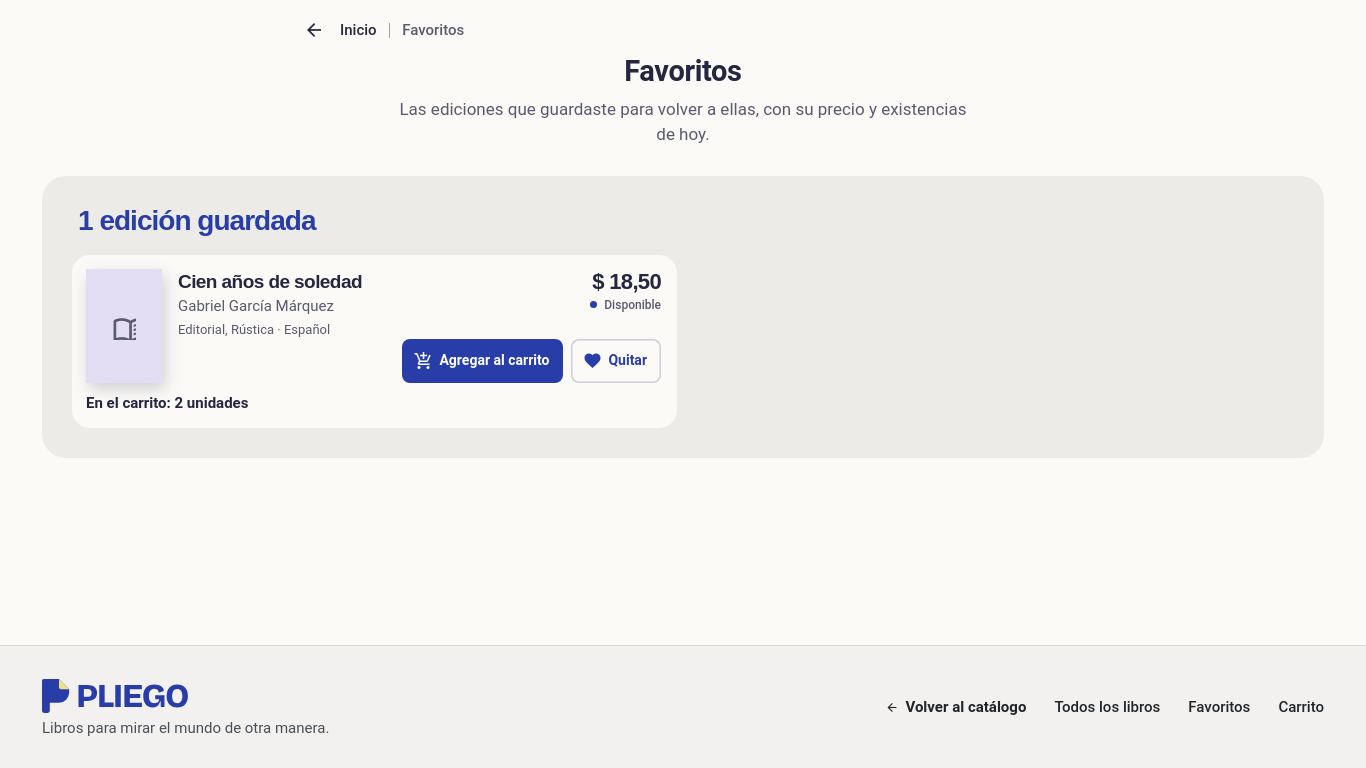
a failed command cannot claim success even when a later read finds the requested quantity
The width and height of the screenshot is (1366, 768).
Click the button with aria-label "Agregar al carrito: Cien años de soledad" at (483, 361), box [402,339,563,383]
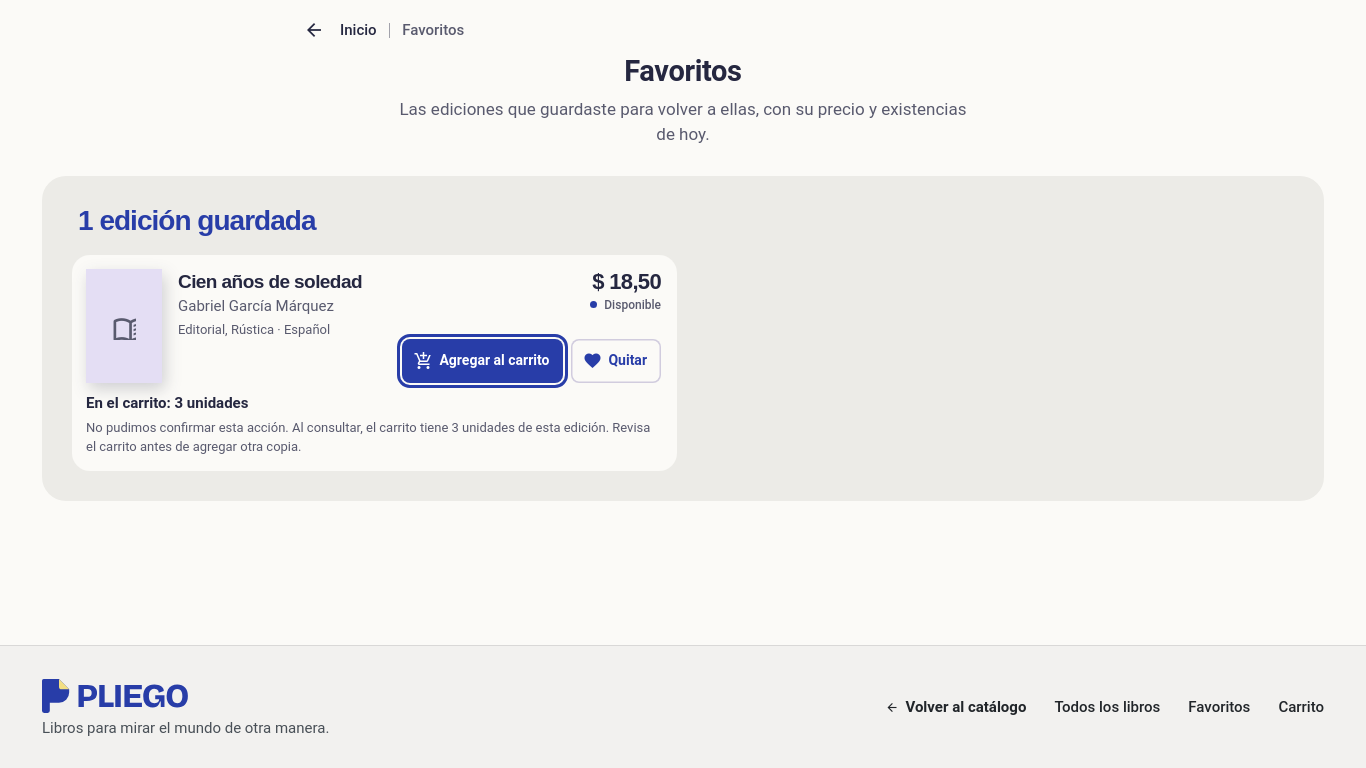
expect the text "En el carrito: 3 unidades" is shown: met, box [86,394,248,412]
expect the message shows "No pudimos confirmar esta acción": met, box [86,420,650,454]
